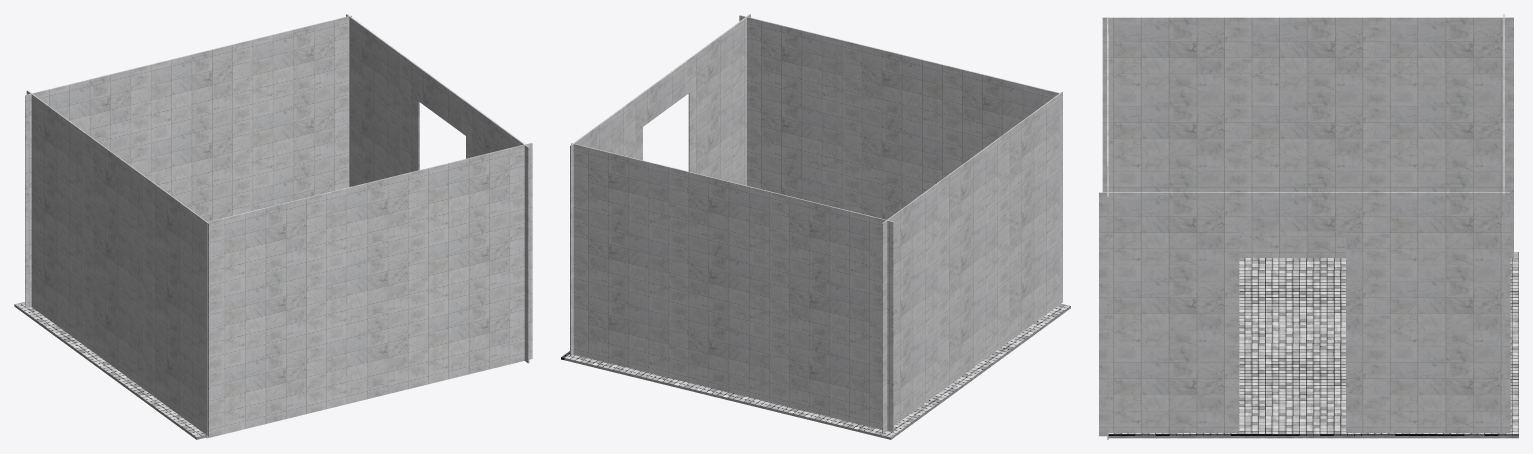
File: BathroomFloorAndWalls.fbx
The picture shows the model from 3 angles, left to right: view 1: azimuth 30°, elevation 25°; view 2: azimuth 150°, elevation 25°; view 3: azimuth 270°, elevation 25°; orthographic projection. The views are drawn at different scales.
Visible parts, largest first — view 1: pPlane8, polySurface11, pCube11; view 2: pPlane8, polySurface11, pCube11; view 3: polySurface11, pCube11, pPlane8.
Part boxes in pixels (x1=…): pPlane8: x1=25, y1=15, x2=532, y2=438; polySurface11: x1=26, y1=14, x2=529, y2=436; pCube11: x1=14, y1=302, x2=206, y2=439; pPlane8: x1=571, y1=15, x2=1061, y2=431; polySurface11: x1=570, y1=14, x2=1062, y2=433; pCube11: x1=561, y1=304, x2=1070, y2=439; polySurface11: x1=1099, y1=17, x2=1513, y2=436; pCube11: x1=1108, y1=252, x2=1518, y2=438; pPlane8: x1=1107, y1=14, x2=1504, y2=439.
Size of the model in its own units: 4.88 by 3 by 4.69.
2 materials, 2 textured.
